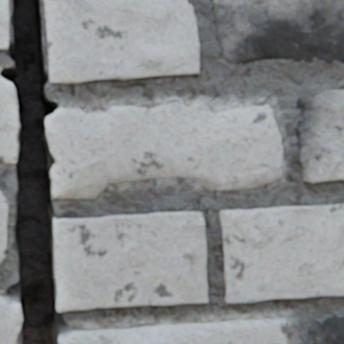brick: (53, 211, 207, 311), (43, 0, 198, 84), (218, 204, 343, 302), (212, 0, 343, 65), (295, 90, 343, 182), (304, 315, 343, 343), (0, 191, 7, 261), (0, 0, 9, 50)
broken_brick: (45, 102, 281, 198), (59, 318, 286, 343), (0, 77, 19, 163), (0, 296, 22, 343)
crack: (0, 0, 71, 343)
